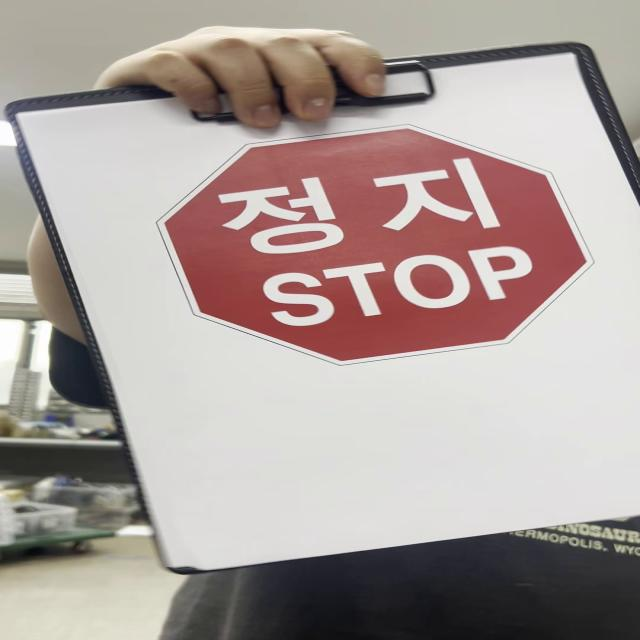stop: (154, 127, 600, 368)
